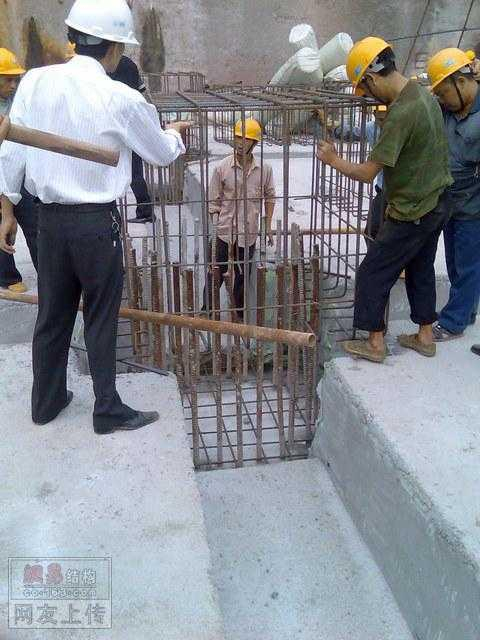boots: (93, 408, 159, 434), (31, 390, 73, 425), (342, 338, 387, 362), (397, 332, 436, 356), (431, 321, 464, 342), (1, 280, 27, 292)
hard-hat: (64, 1, 141, 46), (346, 36, 394, 91), (424, 47, 473, 92), (1, 47, 25, 76), (232, 118, 262, 141)
person: (1, 1, 193, 434), (314, 36, 454, 363), (199, 117, 276, 369), (424, 46, 479, 348), (0, 46, 39, 293), (106, 53, 155, 222), (0, 46, 27, 293)
